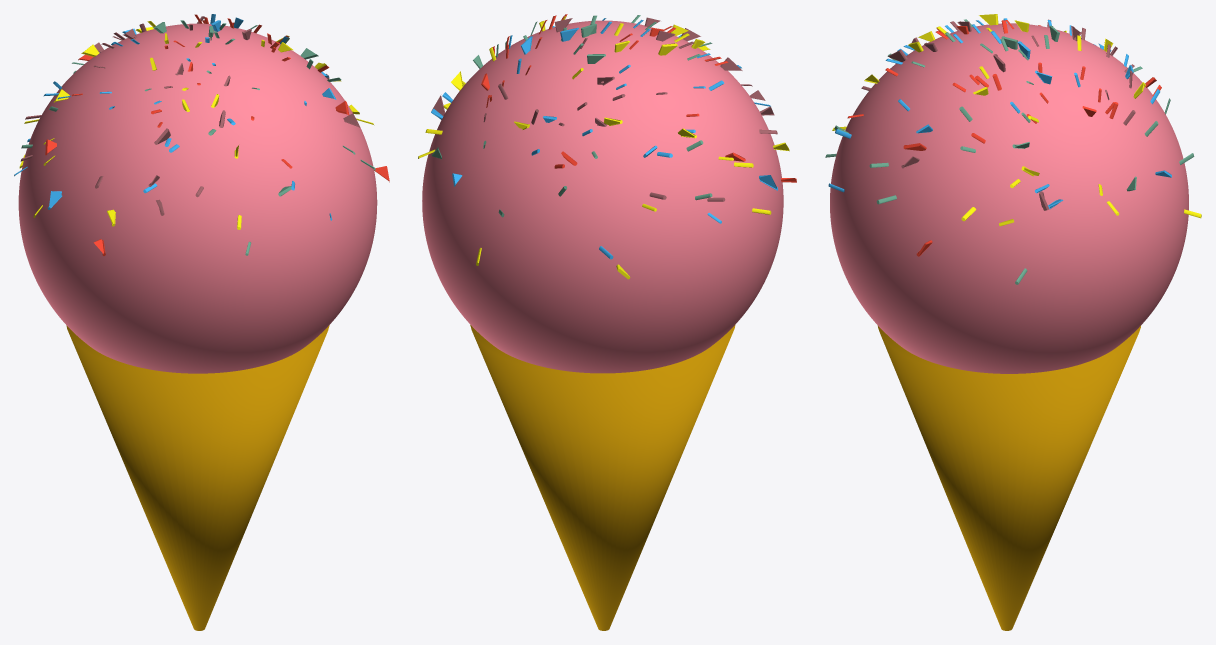
File: icecream1.glb
3 views of the same model, side by side, from view 1: azimuth 30°, elevation 25°; view 2: azimuth 150°, elevation 25°; view 3: azimuth 270°, elevation 25° (orthographic).
Parts seen in each view (by area): view 1: Scoop, WaffleCone; view 2: Scoop, WaffleCone; view 3: Scoop, WaffleCone.
Part boxes in pixels (x1,y1,x2,y2): Scoop: (18,23,377,373); WaffleCone: (66,325,329,630); Scoop: (422,20,783,373); WaffleCone: (470,325,735,630); Scoop: (830,23,1188,373); WaffleCone: (877,325,1140,630).
Bounding box in the file's own units: 1.6 × 2.74 × 1.57.
